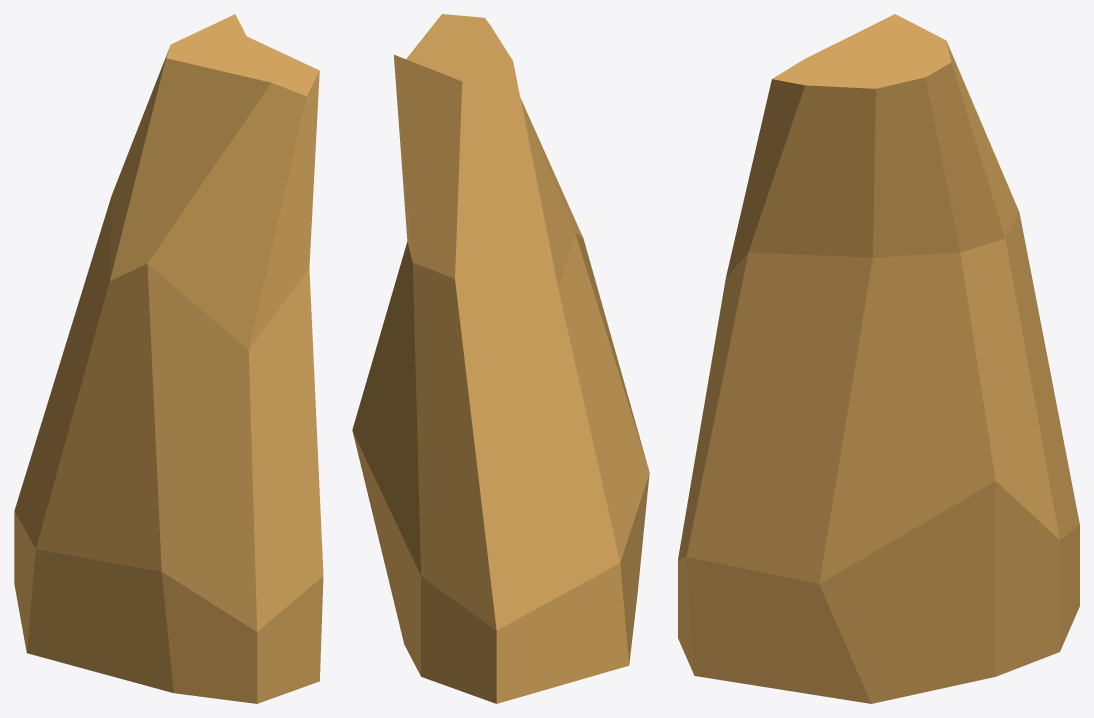
File: stone_5.fbx
3 views of the same model, side by side, from view 1: azimuth 30°, elevation 25°; view 2: azimuth 150°, elevation 25°; view 3: azimuth 270°, elevation 25° (orthographic). The views are drawn at different scales.
Parts seen in each view (by area): view 1: Plane.044; view 2: Plane.044; view 3: Plane.044.
Boxes of the visible parts, x1,y1,x2,y2 form: Plane.044: (14,14,323,703); Plane.044: (352,14,649,703); Plane.044: (678,14,1079,703).
Bounding box in the file's own units: 2559 × 5728 × 3307.
